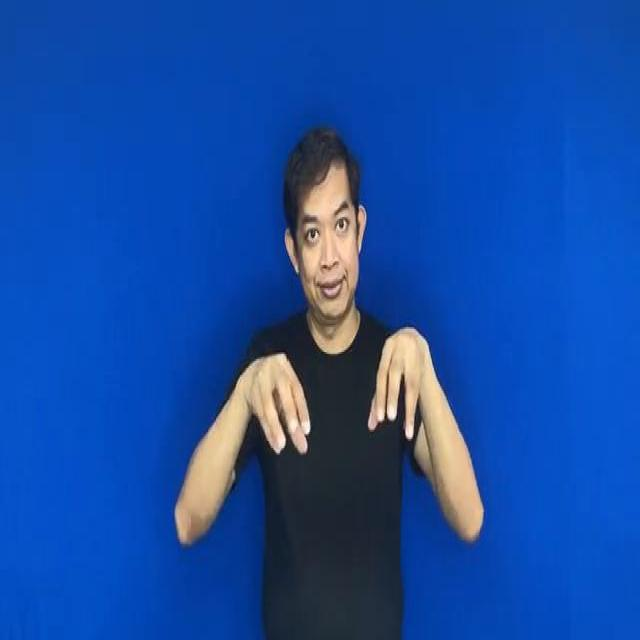egg: (211, 285, 452, 472)
